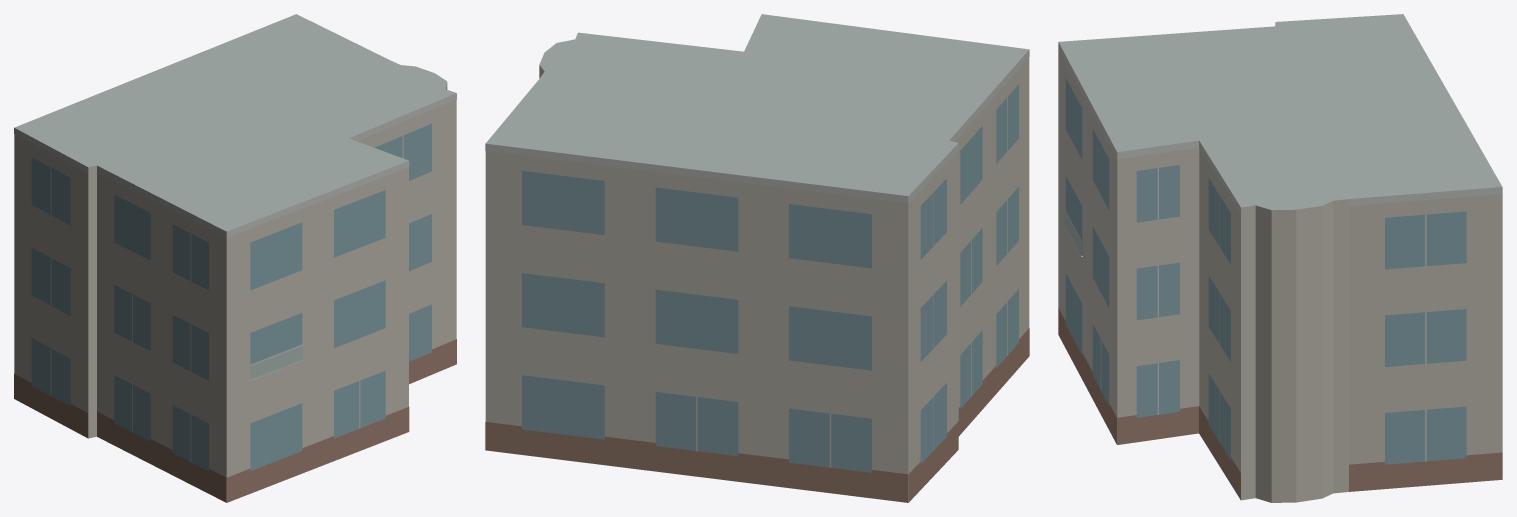
File: survey-upis-32610719.glb
The picture shows the model from 3 angles, left to right: view 1: azimuth 30°, elevation 25°; view 2: azimuth 150°, elevation 25°; view 3: azimuth 270°, elevation 25°; orthographic projection. The views are drawn at different scales.
Parts seen in each view (by area): view 1: survey-upis-32610719.tmp; view 2: survey-upis-32610719.tmp; view 3: survey-upis-32610719.tmp.
Part boxes in pixels (x1,y1,x2,y2): survey-upis-32610719.tmp: (14, 14, 456, 502); survey-upis-32610719.tmp: (485, 14, 1029, 502); survey-upis-32610719.tmp: (1058, 14, 1502, 502).
Size of the model in its own units: 14.66 by 10.2 by 14.03.
